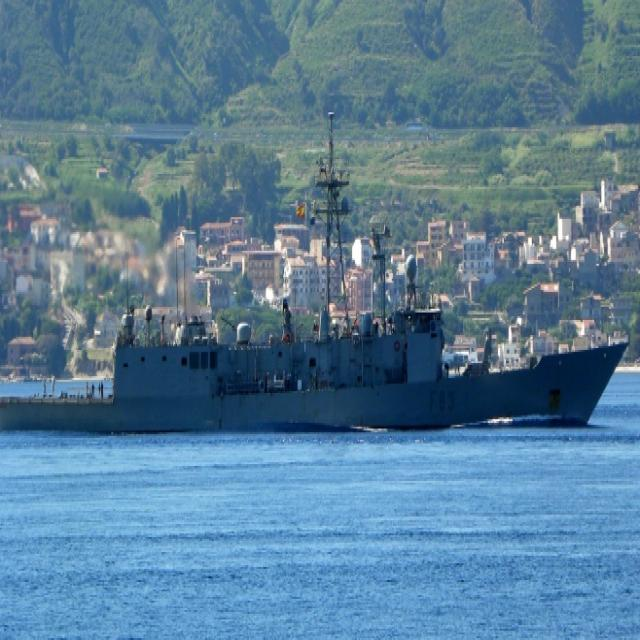Fragata: (1, 106, 638, 443)
